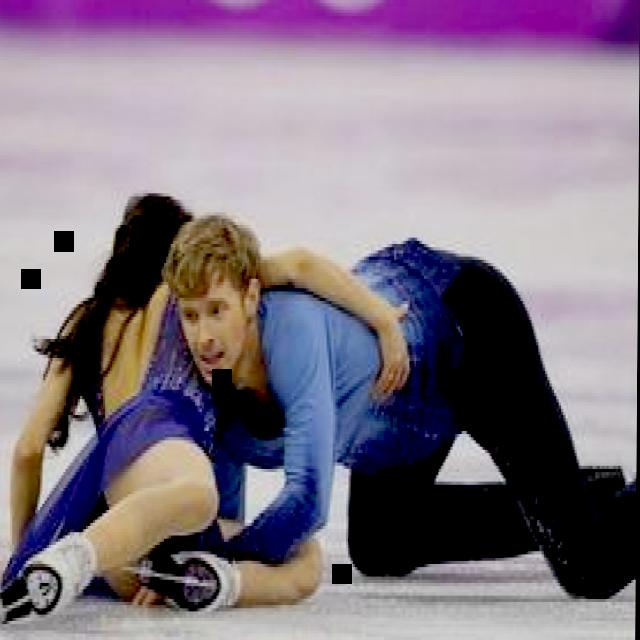Fall-Detected: (0, 161, 344, 633)
